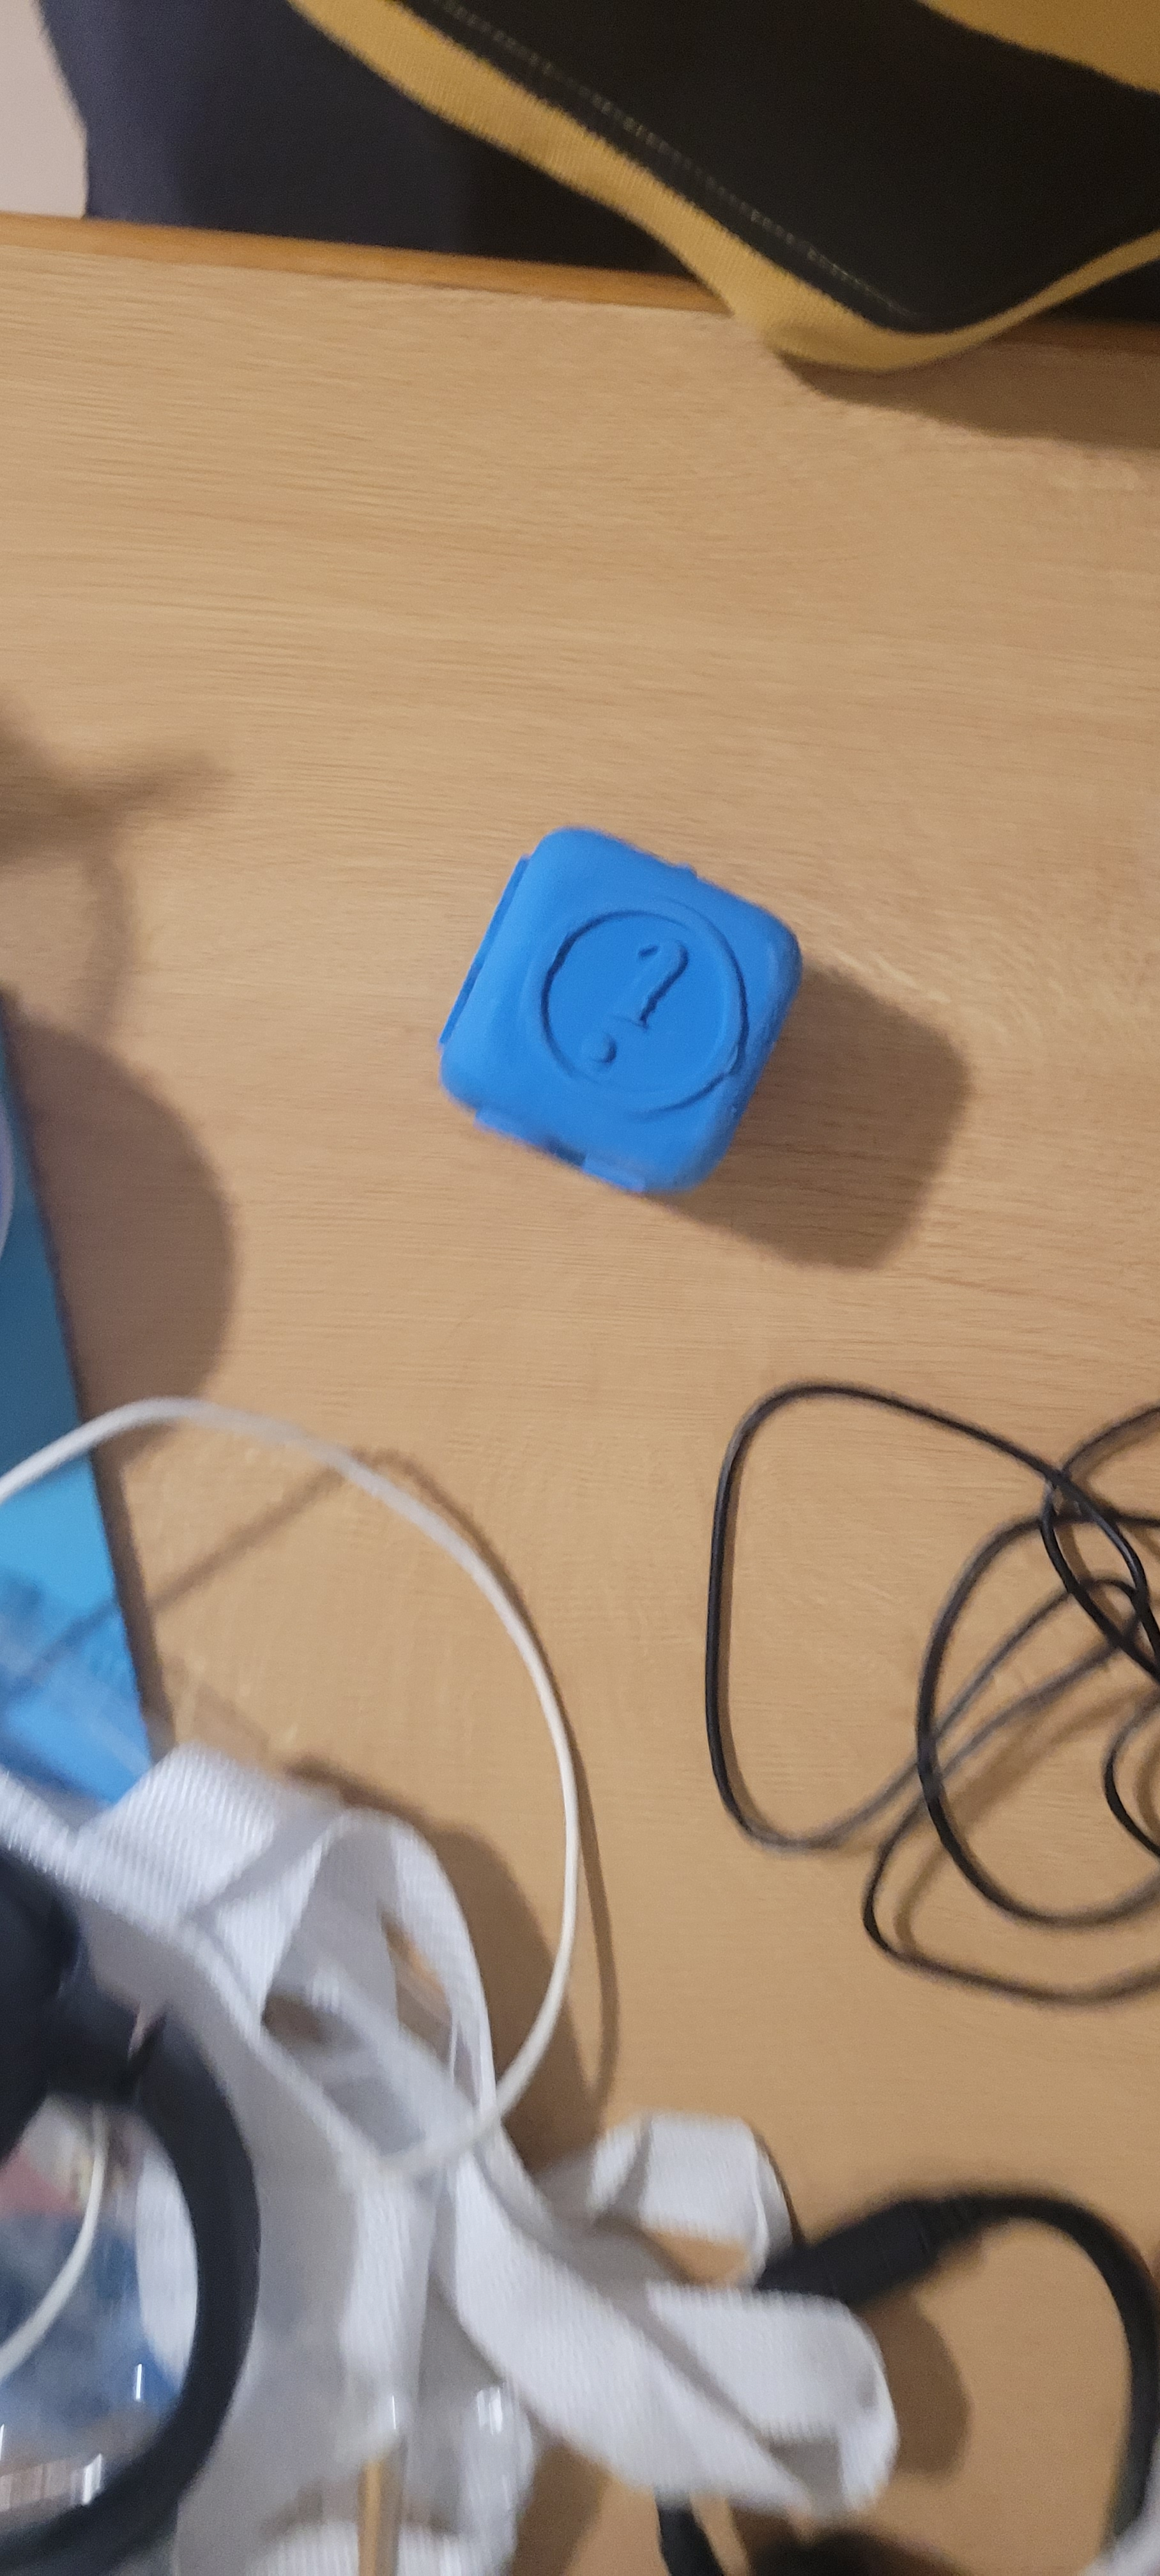Info: (463, 917, 784, 1112)
